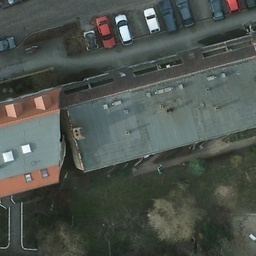car: (98, 15, 116, 48), (115, 13, 133, 46), (161, 0, 177, 33), (143, 5, 159, 35), (175, 0, 192, 26), (81, 29, 97, 55), (207, 0, 224, 21), (221, 0, 240, 12), (0, 37, 15, 52), (0, 0, 31, 7)
